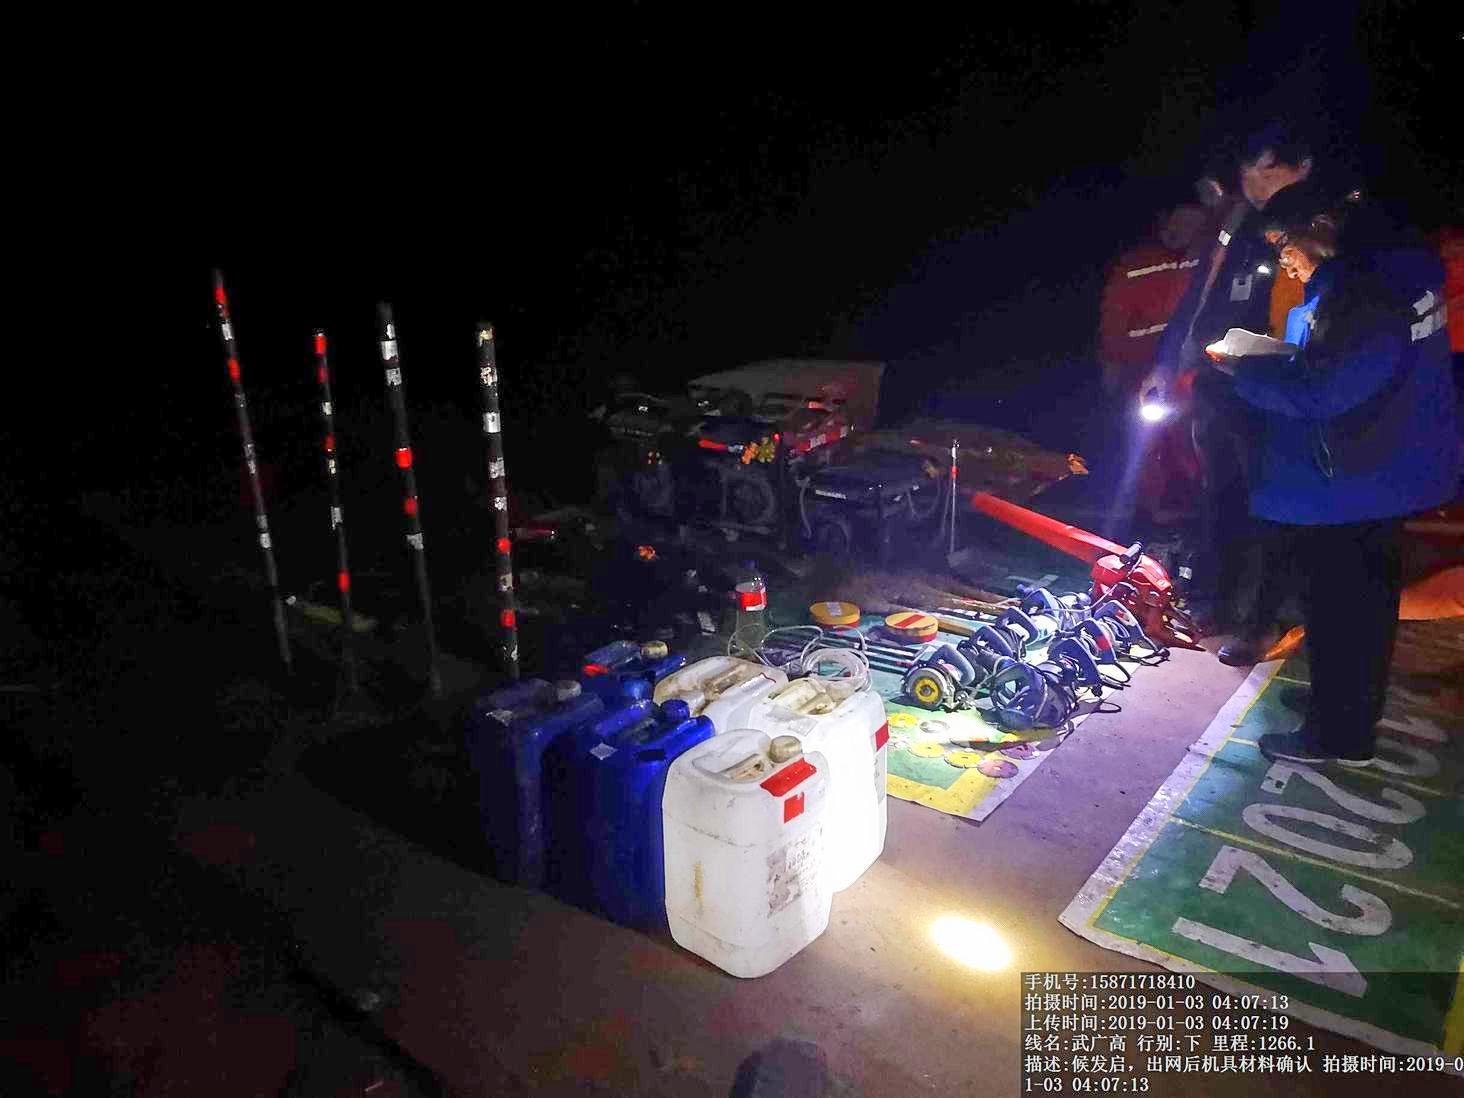DJ: (795, 427, 966, 554)
GFJ: (984, 490, 1194, 626)
JC: (812, 592, 871, 636), (882, 608, 945, 642)
SLT: (661, 732, 835, 986), (539, 690, 714, 912)
